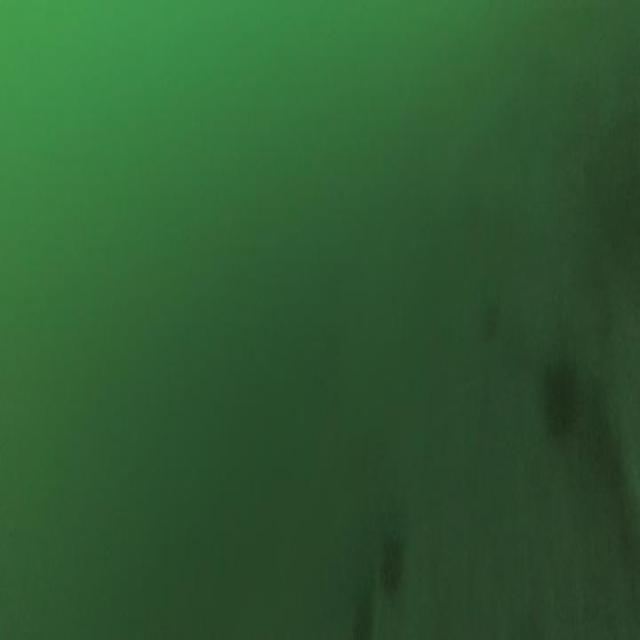echinus: (543, 354, 580, 438), (375, 523, 406, 601)
